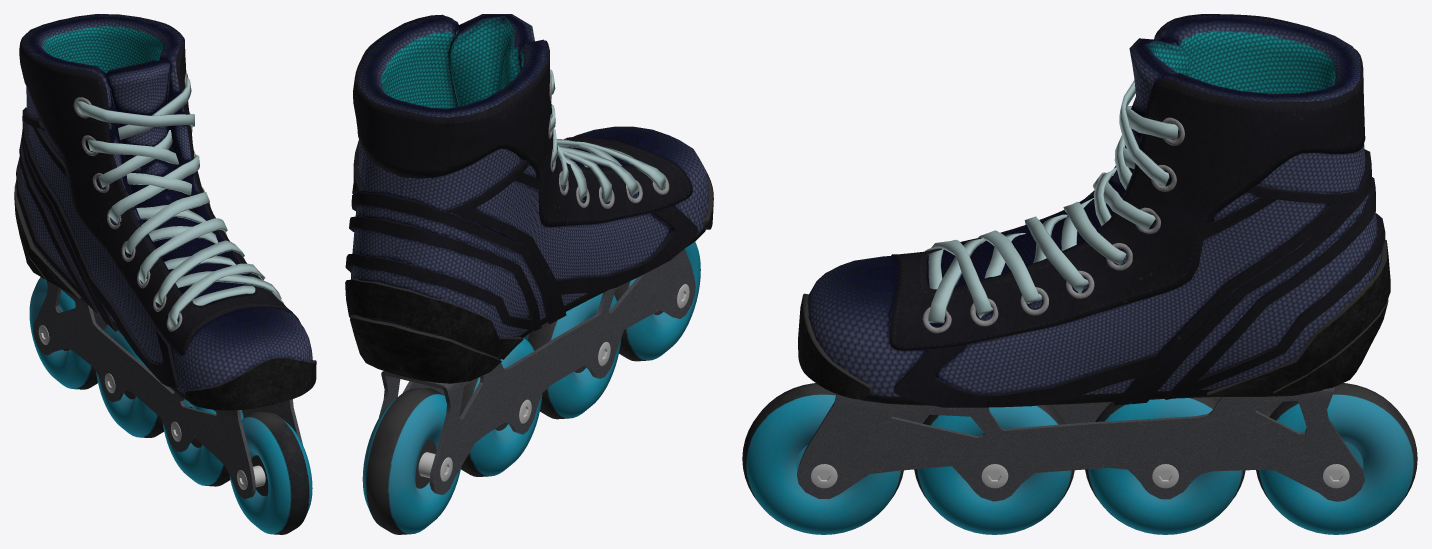
File: roller-skates.glb
3 views of the same model, side by side, from view 1: azimuth 30°, elevation 25°; view 2: azimuth 150°, elevation 25°; view 3: azimuth 270°, elevation 25° (orthographic). The views are drawn at different scales.
Parts seen in each view (by area): view 1: Object_27, Object_28; view 2: Object_27, Object_28; view 3: Object_27, Object_28.
Boxes of the visible parts, x1,y1,x2,y2 form: Object_27: (14, 14, 316, 498); Object_28: (29, 72, 312, 534); Object_27: (345, 14, 713, 494); Object_28: (362, 75, 700, 534); Object_27: (797, 14, 1390, 501); Object_28: (742, 117, 1417, 534).
Bounding box in the file's own units: 0.1502 × 0.3912 × 0.4926.
Materials: 1 (1 with a texture image).
